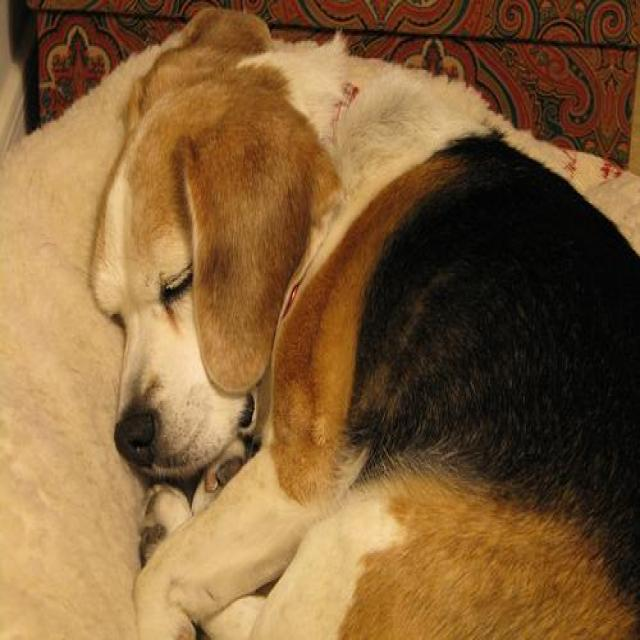relax: (77, 16, 640, 640)
